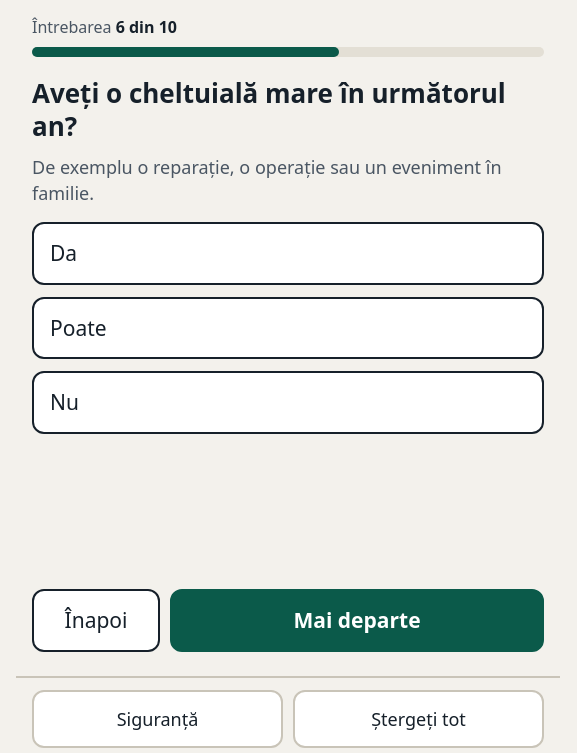
Test: cheltuiala mare › Da cu suma lasata goala: raspunsul se salveaza, suma ramane nespusa
Step 1. Click the button "Da" → (64, 253), box x1=32 y1=222 x2=544 y2=285
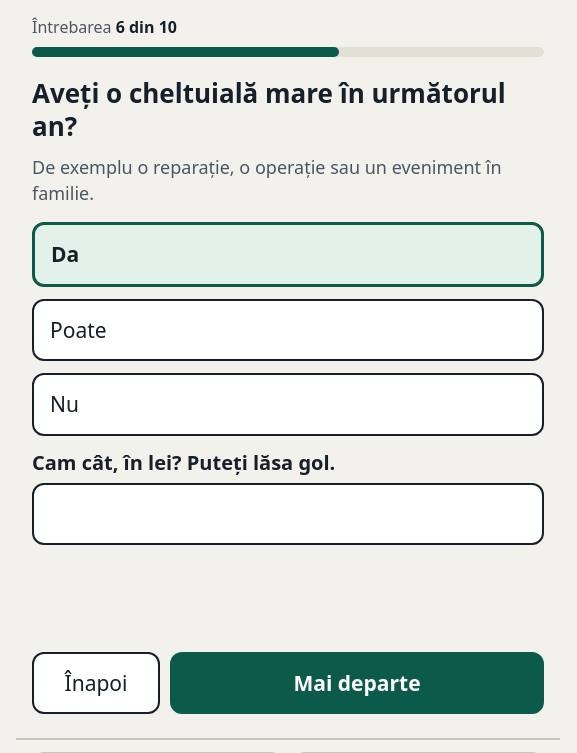
Step 2. Click the button "Mai departe" → (357, 683), box x1=170 y1=652 x2=544 y2=714
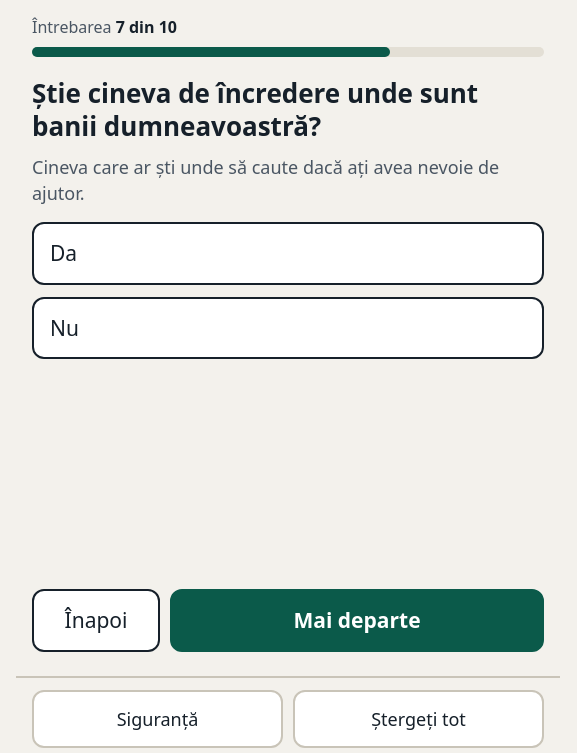
expect the text "7 din 10" is shown: met, box x1=116 y1=16 x2=177 y2=38
